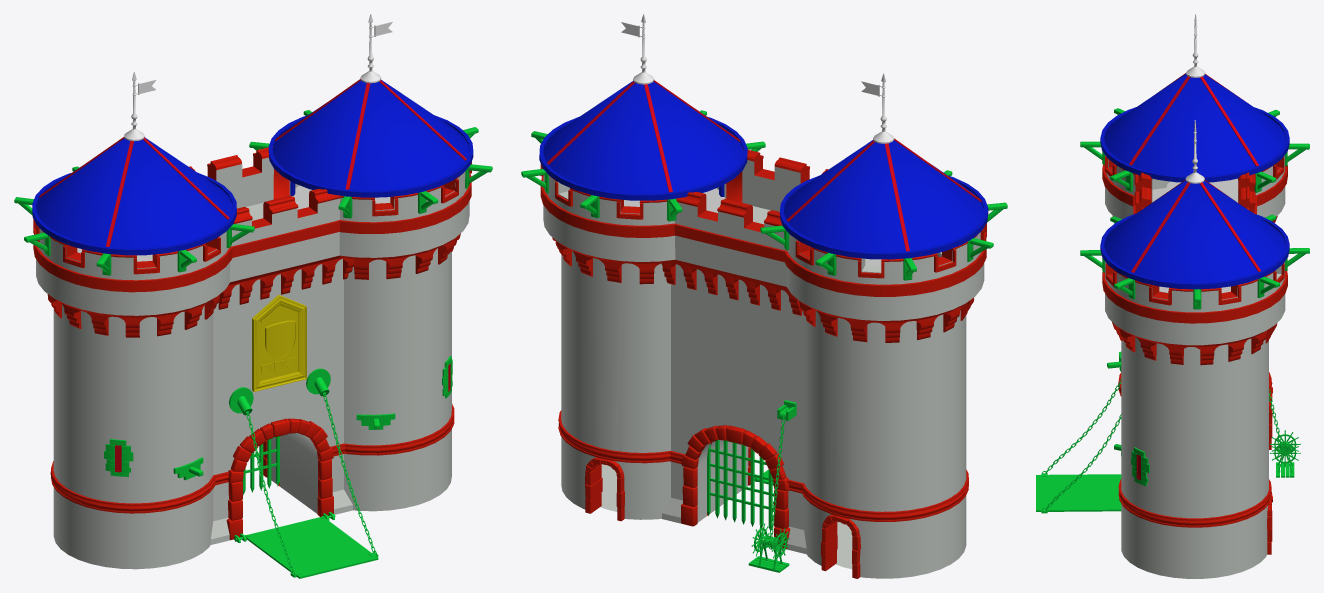
Rendered from Goal.fbx.
3 views of the same model, side by side, from view 1: azimuth 30°, elevation 25°; view 2: azimuth 150°, elevation 25°; view 3: azimuth 270°, elevation 25° (orthographic). The views are drawn at different scales.
Visible parts, largest first — view 1: a.007, Group_4.012, Group_5.019, a.006, Group_5.009, Group_2.017, Group_4.007, Group_4.011; view 2: a.007, Group_4.012, Group_5.009, Group_5.000, Group_4.011, Group_4.007; view 3: a.007, Group_4.012, Group_5.019, Group_5.000, a.006, Group_2.016.
Part boxes in pixels (<box>): a.007: <box>33,146,471,569</box>; Group_4.012: <box>14,79,492,275</box>; Group_5.019: <box>234,512,378,578</box>; a.006: <box>246,392,375,572</box>; Group_5.009: <box>242,436,279,494</box>; Group_2.017: <box>104,439,133,476</box>; Group_4.007: <box>360,14,392,83</box>; Group_4.011: <box>124,72,156,141</box>; a.007: <box>540,148,986,578</box>; Group_4.012: <box>521,80,1007,280</box>; Group_5.009: <box>707,439,774,529</box>; Group_5.000: <box>748,400,796,572</box>; Group_4.011: <box>861,73,894,143</box>; Group_4.007: <box>621,14,654,84</box>; a.007: <box>1102,155,1287,578</box>; Group_4.012: <box>1080,73,1309,309</box>; Group_5.019: <box>1036,471,1121,513</box>; Group_5.000: <box>1269,389,1300,477</box>; a.006: <box>1045,379,1121,509</box>; Group_2.016: <box>1131,447,1149,486</box>.
Bounding box in the file's own units: 2093 × 2055 × 1191.
